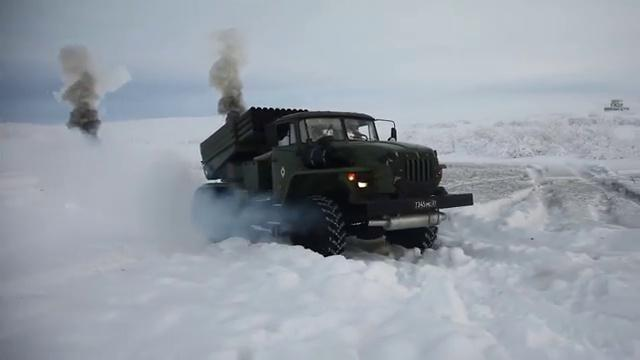MIL_SAM_TEL: (196, 105, 449, 254)
